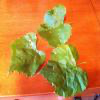grape leaf black rot: (39, 42, 88, 98), (37, 2, 72, 46)
